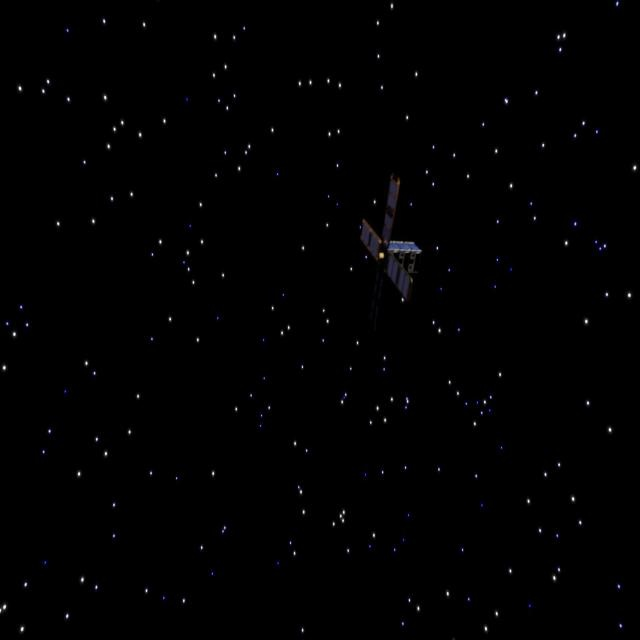medium_debris: (351, 168, 422, 318)
